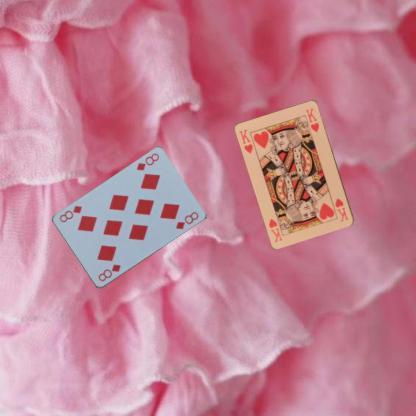8d: (134, 150, 160, 172), (95, 262, 122, 282)
Kh: (236, 126, 254, 155), (332, 196, 350, 223)
